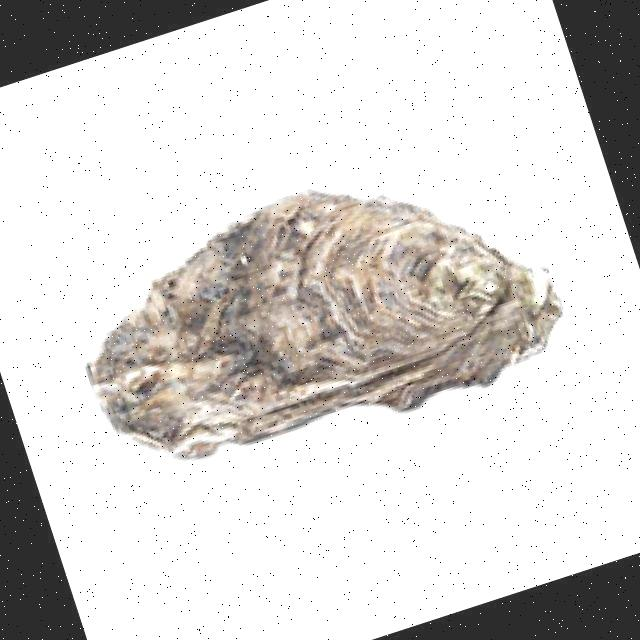Oyster-Closed: (85, 191, 563, 463)
